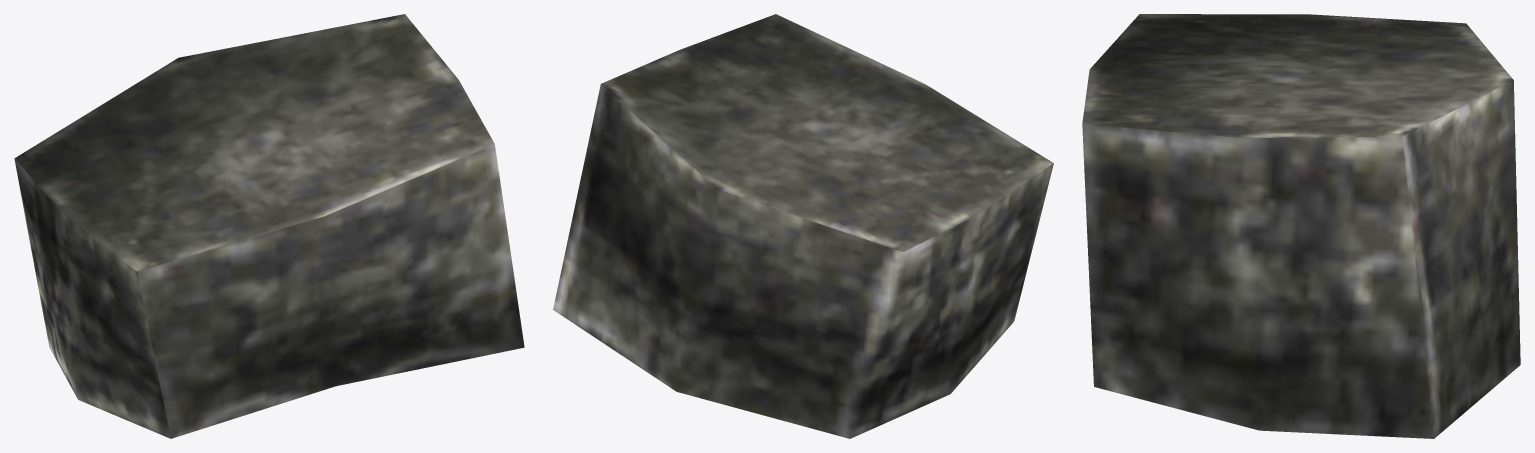
File: Stones_21.fbx
3 views of the same model, side by side, from view 1: azimuth 30°, elevation 25°; view 2: azimuth 150°, elevation 25°; view 3: azimuth 270°, elevation 25° (orthographic). The views are drawn at different scales.
Parts seen in each view (by area): view 1: Stones_21; view 2: Stones_21; view 3: Stones_21.
Boxes of the visible parts, x1,y1,x2,y2 form: Stones_21: (14, 14, 524, 438); Stones_21: (553, 14, 1053, 438); Stones_21: (1082, 14, 1520, 438).
Bounding box in the file's own units: 48.87 × 31.06 × 38.23.
